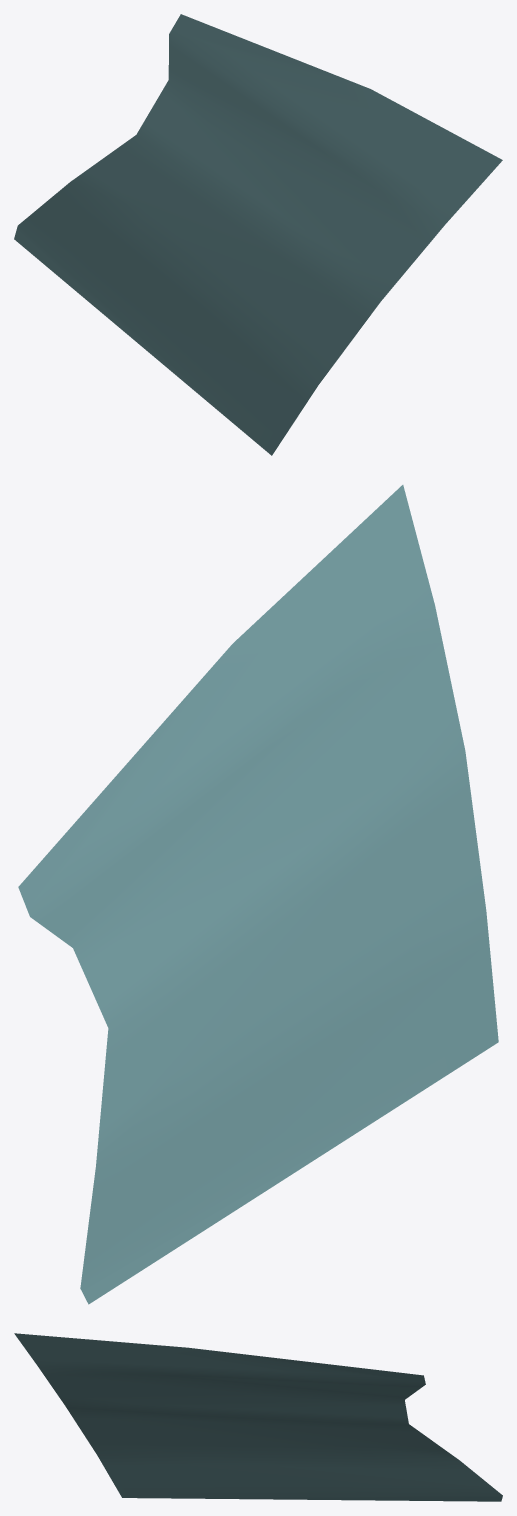
File: SUV_2_Body_Window_RR_Tessellate.fbx
The picture shows the model from 3 angles, top to bottom: view 1: azimuth 30°, elevation 25°; view 2: azimuth 150°, elevation 25°; view 3: azimuth 270°, elevation 25°; orthographic projection. The views are drawn at different scales.
Visible parts, largest first — view 1: SUV_2_Body_Window_RR_Tessellate; view 2: SUV_2_Body_Window_RR_Tessellate; view 3: SUV_2_Body_Window_RR_Tessellate.
Boxes of the visible parts, x1,y1,x2,y2 form: SUV_2_Body_Window_RR_Tessellate: [14, 14, 502, 455]; SUV_2_Body_Window_RR_Tessellate: [18, 485, 498, 1304]; SUV_2_Body_Window_RR_Tessellate: [14, 1333, 502, 1501].
Size of the model in its own units: 16.55 by 33.29 by 68.78.
